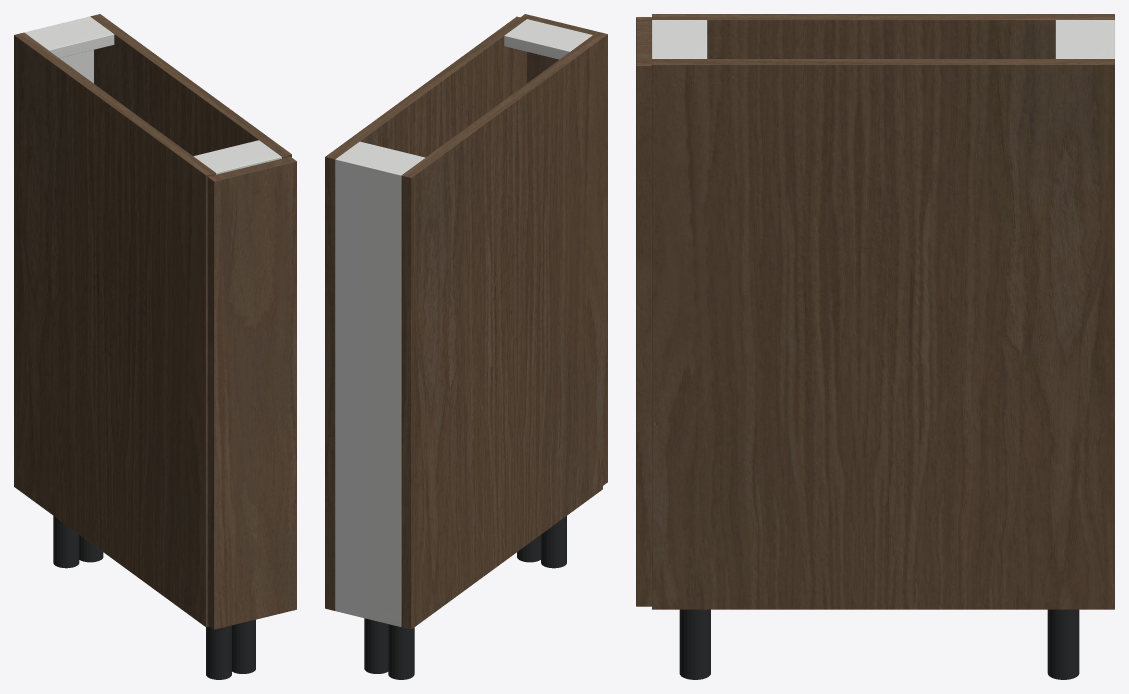
File: oppein-pb-mso-b06fh.glb
The picture shows the model from 3 angles, left to right: view 1: azimuth 30°, elevation 25°; view 2: azimuth 150°, elevation 25°; view 3: azimuth 270°, elevation 25°; orthographic projection. The views are drawn at different scales.
Parts seen in each view (by area): view 1: Cabinet side, Door, Cabinet side.001, Top support rail, Top support rail.001, Adjustable foot.001, Adjustable foot.003, Adjustable foot, Cabinet back, Adjustable foot.002; view 2: Cabinet side, Cabinet back, Cabinet side.001, Door, Top support rail.001, Adjustable foot, Top support rail, Adjustable foot.002, Adjustable foot.001, Adjustable foot.003; view 3: Cabinet side.001, Cabinet side, Door, Adjustable foot.002, Adjustable foot.003, Top support rail.001, Top support rail.
Boxes of the visible parts, bbox=[...] form: Cabinet side: bbox=[14, 32, 215, 626]; Door: bbox=[207, 156, 296, 629]; Cabinet side.001: bbox=[90, 14, 291, 158]; Top support rail: bbox=[26, 19, 114, 58]; Top support rail.001: bbox=[193, 140, 281, 174]; Adjustable foot.001: bbox=[206, 625, 231, 679]; Adjustable foot.003: bbox=[232, 619, 255, 673]; Adjustable foot: bbox=[53, 516, 79, 568]; Cabinet back: bbox=[24, 16, 93, 83]; Adjustable foot.002: bbox=[79, 535, 103, 562]; Cabinet side: bbox=[401, 35, 602, 629]; Cabinet back: bbox=[335, 156, 403, 626]; Cabinet side.001: bbox=[325, 16, 526, 610]; Door: bbox=[520, 14, 607, 485]; Top support rail.001: bbox=[504, 19, 592, 59]; Adjustable foot: bbox=[388, 624, 414, 679]; Top support rail: bbox=[339, 141, 425, 173]; Adjustable foot.002: bbox=[364, 618, 388, 673]; Adjustable foot.001: bbox=[541, 516, 566, 568]; Adjustable foot.003: bbox=[517, 535, 540, 562]; Cabinet side.001: bbox=[652, 59, 1114, 609]; Cabinet side: bbox=[652, 14, 1114, 58]; Door: bbox=[636, 17, 651, 606]; Adjustable foot.002: bbox=[1047, 609, 1079, 679]; Adjustable foot.003: bbox=[679, 609, 710, 679]; Top support rail.001: bbox=[652, 20, 707, 58]; Top support rail: bbox=[1055, 20, 1109, 58].
Size of the model in its own units: 0.1524 by 0.8763 by 0.6064.
Materials: 3 (1 with a texture image).
